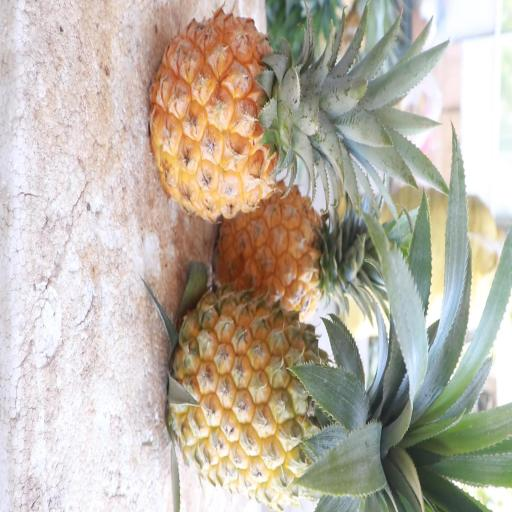Pineapple - v8 v1: (163, 281, 387, 511), (148, 6, 357, 228), (212, 182, 380, 321)
